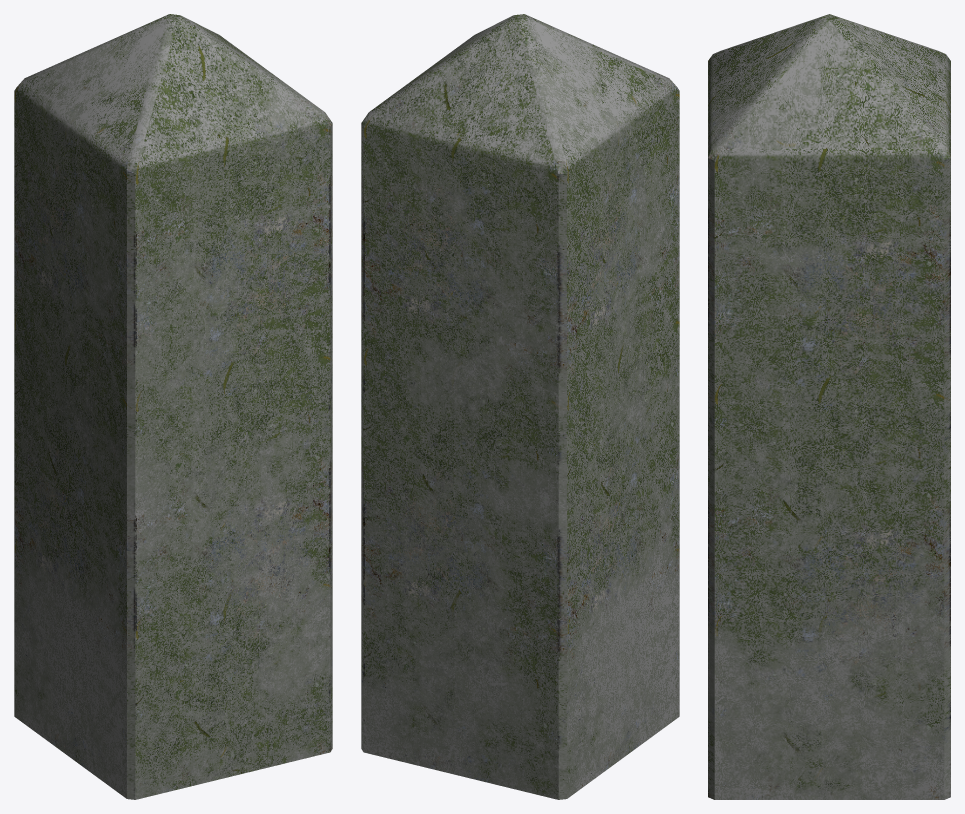
File: Fence6.fbx
3 renders of one model, left to right at view 1: azimuth 30°, elevation 25°; view 2: azimuth 150°, elevation 25°; view 3: azimuth 270°, elevation 25°, orthographic. The views are drawn at different scales.
Visible parts, largest first — view 1: Fence6; view 2: Fence6; view 3: Fence6.
Boxes of the visible parts, bbox=[...] form: Fence6: bbox=[14, 14, 332, 799]; Fence6: bbox=[361, 14, 679, 799]; Fence6: bbox=[708, 14, 950, 799].
Bounding box in the file's own units: 75.78 × 252 × 75.78.
1 material, 1 textured.
